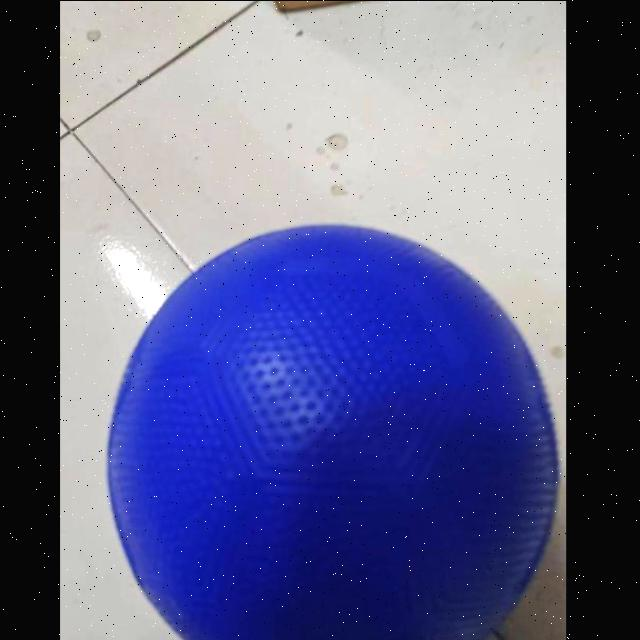B: (98, 216, 566, 640)
